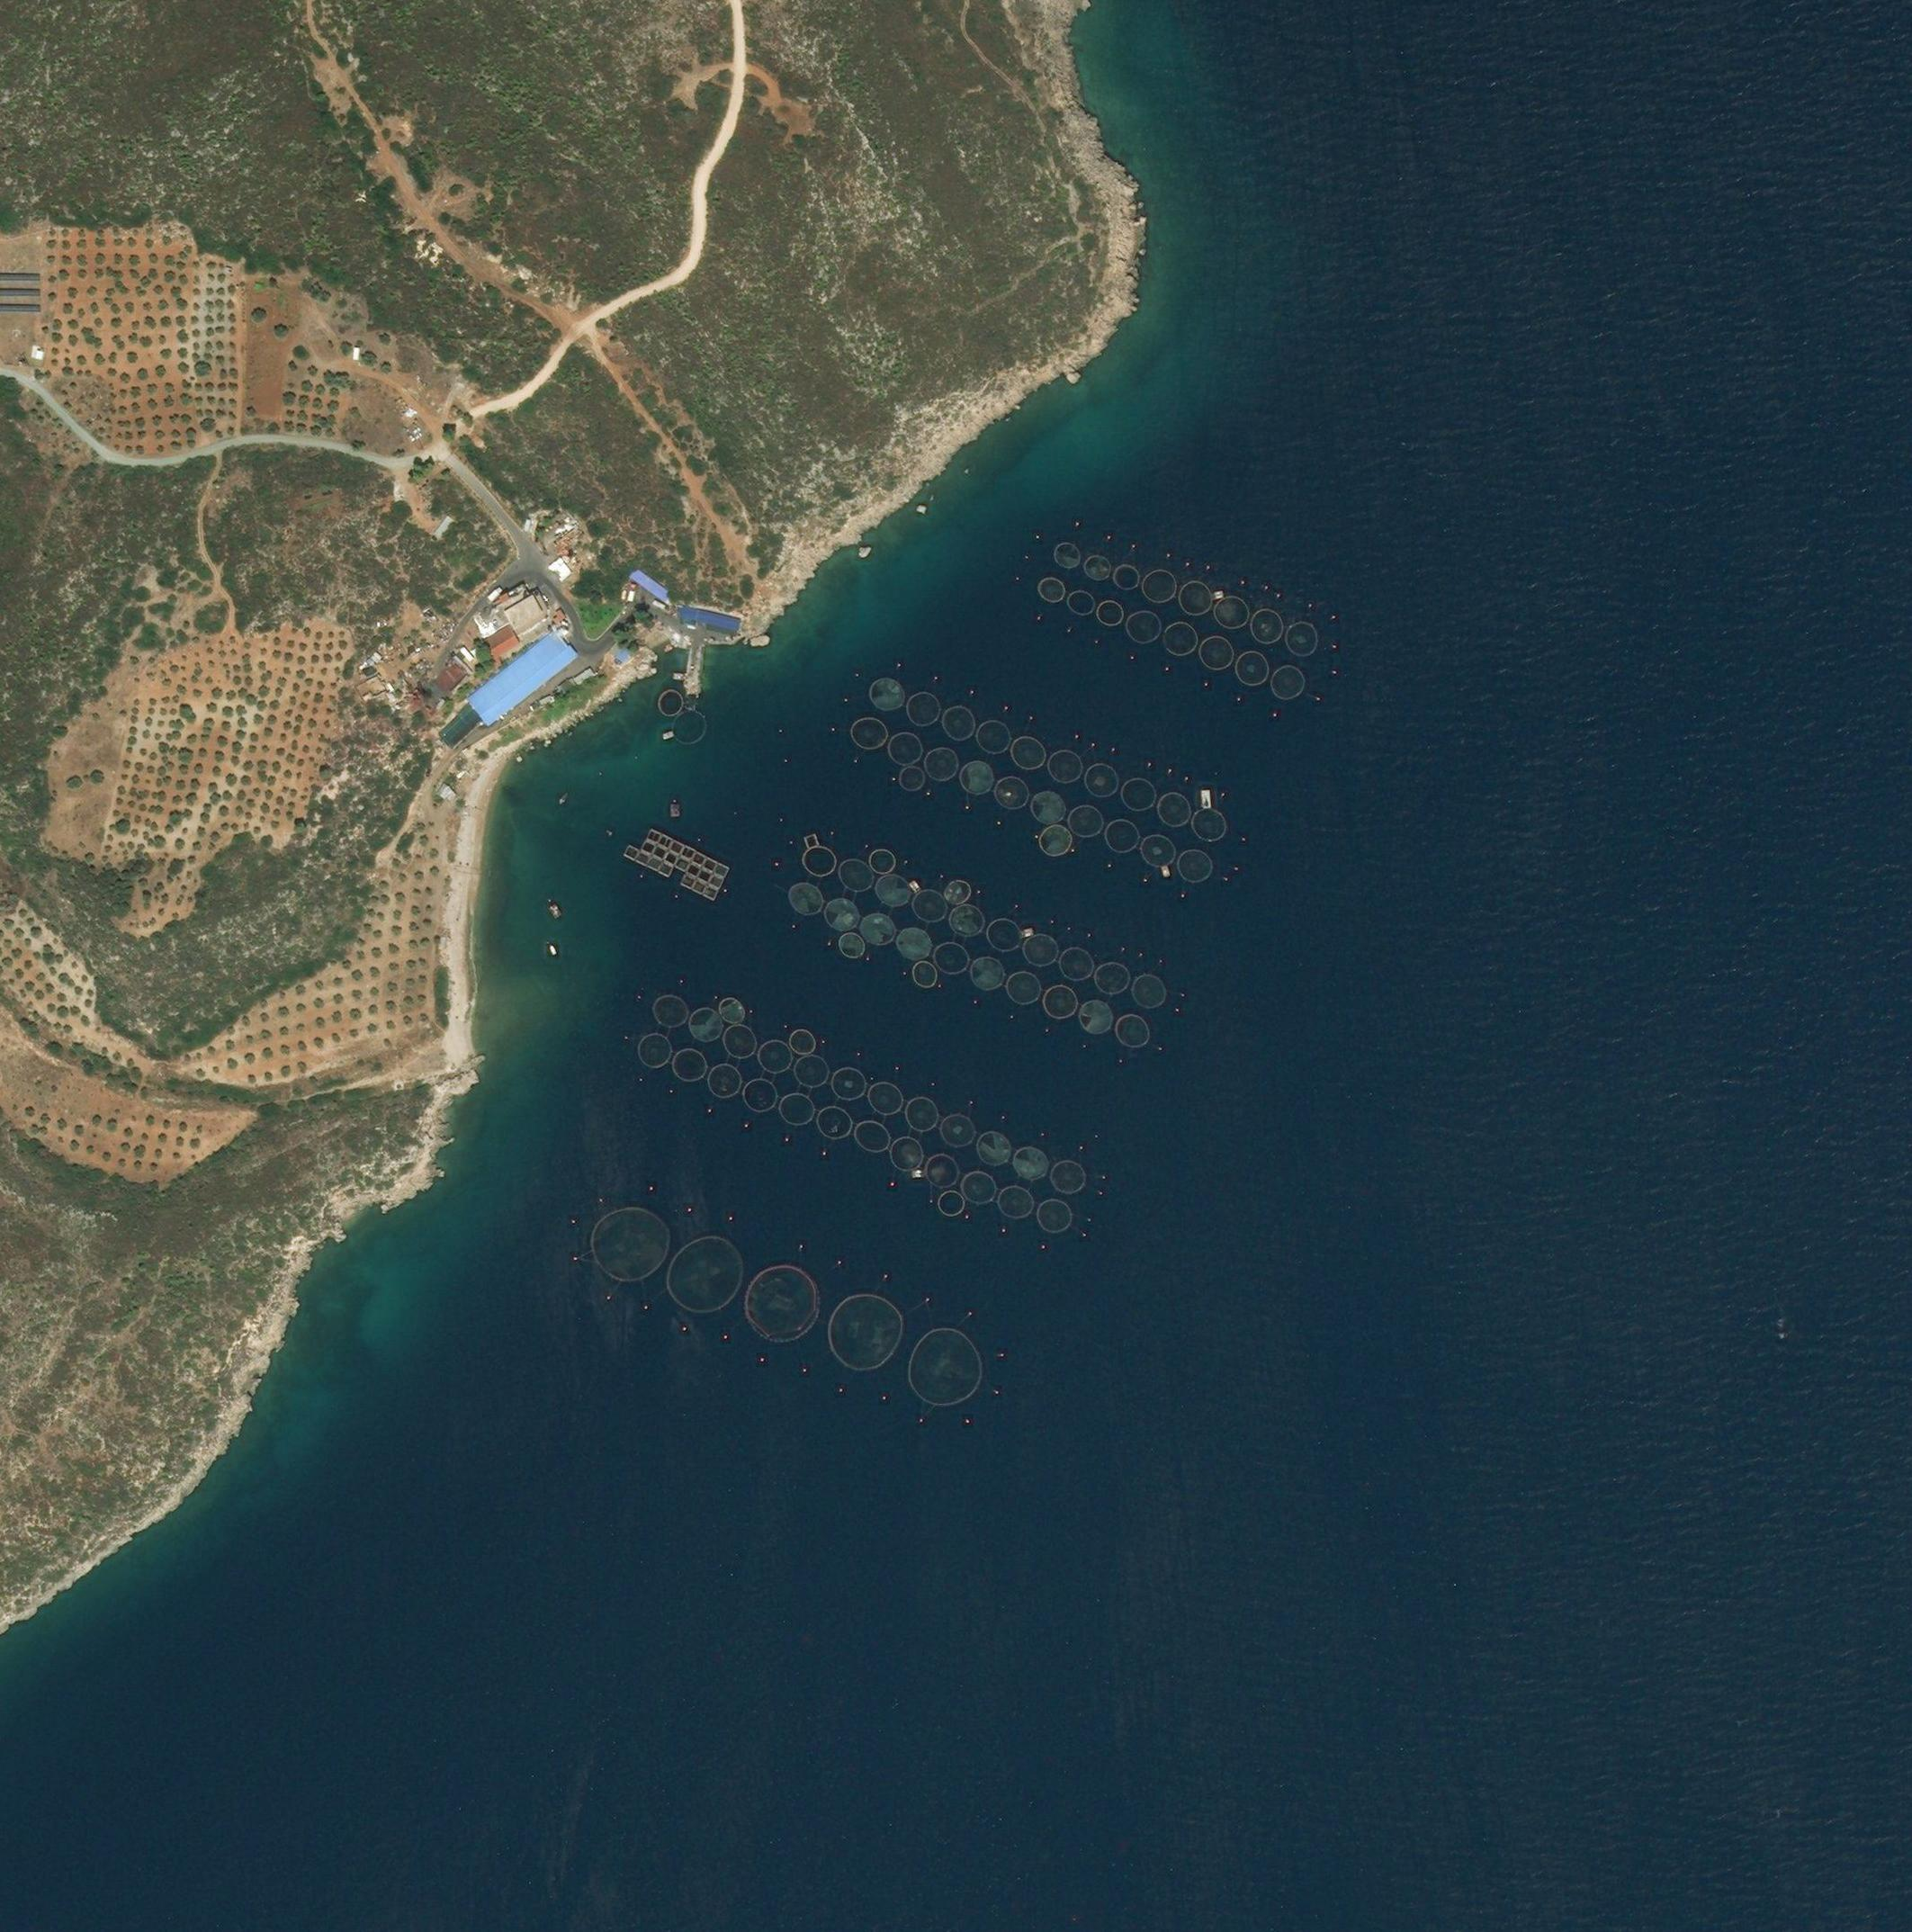c: (905, 1326, 984, 1408), (826, 1293, 905, 1373), (667, 1233, 746, 1314), (592, 1205, 671, 1284), (744, 1265, 821, 1343), (1177, 576, 1215, 617), (1103, 816, 1142, 855), (1129, 972, 1168, 1011), (1198, 634, 1234, 673), (851, 715, 889, 751), (905, 690, 942, 729), (1030, 788, 1066, 827), (786, 881, 825, 918), (1042, 984, 1080, 1021), (821, 897, 861, 932), (1213, 594, 1250, 631), (1234, 650, 1271, 687), (868, 676, 905, 713), (1084, 762, 1121, 799), (1191, 806, 1227, 843), (1079, 998, 1115, 1035), (1283, 620, 1318, 659), (1045, 748, 1084, 783), (921, 746, 960, 781), (960, 758, 995, 797), (1066, 804, 1105, 839), (874, 872, 912, 907), (895, 927, 933, 962), (931, 941, 970, 976), (1140, 568, 1177, 603), (1161, 622, 1198, 657), (888, 730, 923, 767), (942, 704, 977, 741), (977, 718, 1012, 755), (1012, 736, 1047, 772), (1177, 848, 1213, 883), (837, 858, 874, 893), (949, 902, 986, 937), (1005, 970, 1042, 1005), (1058, 946, 1094, 981), (1115, 1014, 1152, 1049), (1250, 606, 1283, 645), (1157, 790, 1191, 829), (910, 890, 949, 923), (1093, 962, 1131, 995), (1126, 610, 1161, 645), (1269, 666, 1304, 701), (1122, 776, 1157, 811), (993, 776, 1030, 809), (1142, 834, 1178, 867), (800, 844, 837, 878), (860, 913, 896, 946), (986, 918, 1023, 951), (1023, 934, 1059, 967), (1038, 825, 1073, 857), (972, 958, 1003, 991), (944, 876, 972, 909), (1052, 539, 1080, 571), (1094, 599, 1126, 627), (1082, 554, 1112, 582), (1112, 562, 1140, 592), (1037, 576, 1066, 604), (868, 846, 896, 876), (1068, 589, 1096, 617), (837, 932, 865, 958), (910, 962, 938, 988)
